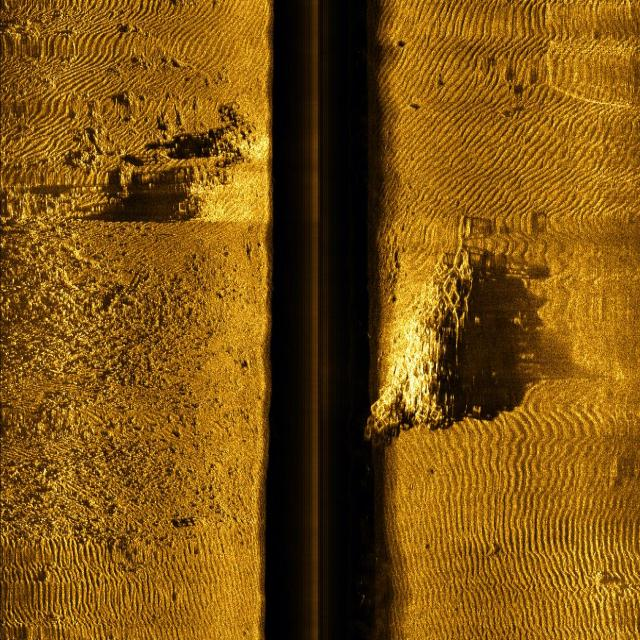artificial reef: (352, 213, 491, 449)
